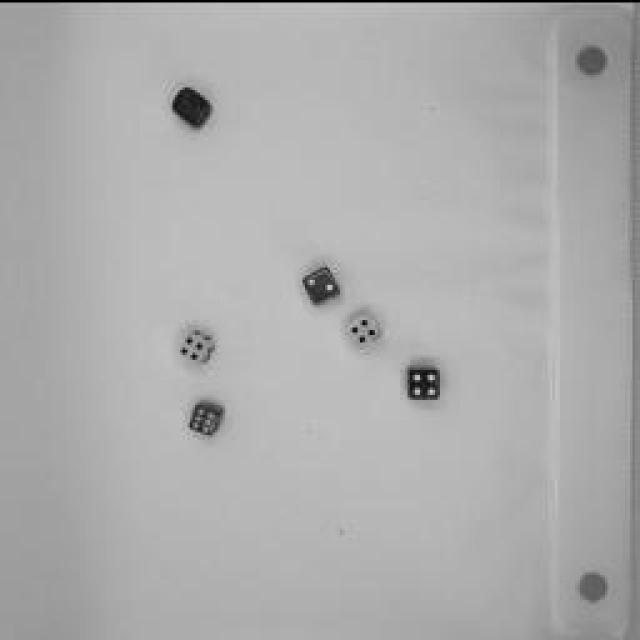dice_2: (300, 256, 345, 312)
dice_3: (166, 82, 222, 122)
dice_4: (170, 320, 220, 370), (404, 355, 446, 405), (345, 305, 385, 350)
dice_6: (185, 398, 230, 438)
